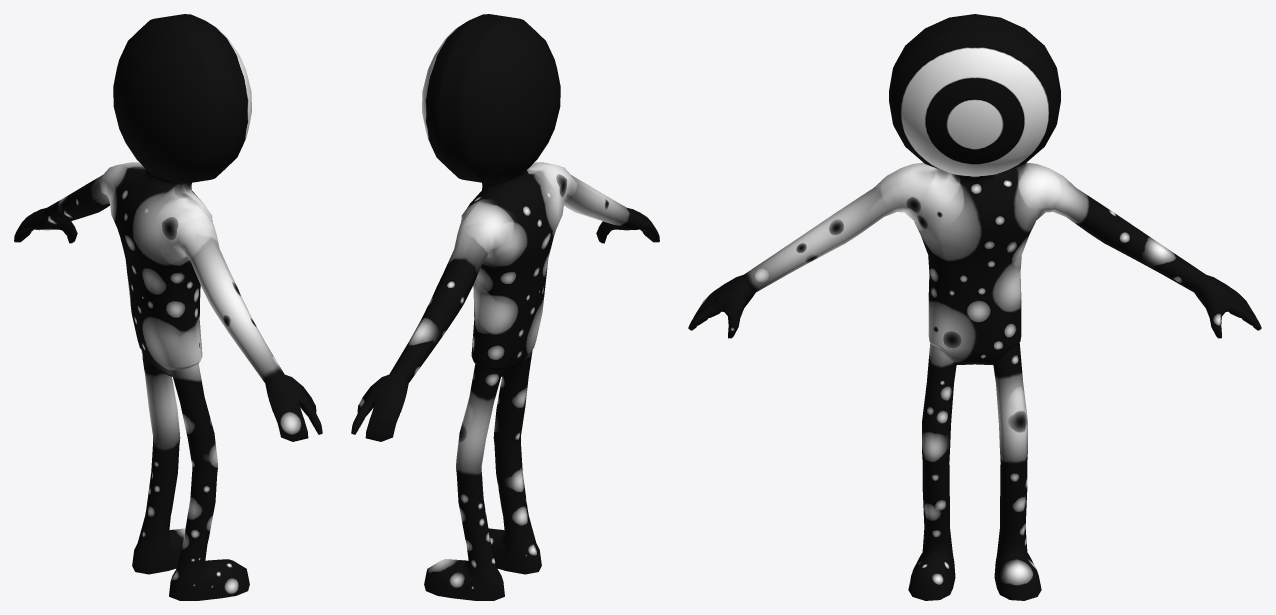
Rendered from Robot.glb.
3 views of the same model, side by side, from view 1: azimuth 30°, elevation 25°; view 2: azimuth 150°, elevation 25°; view 3: azimuth 270°, elevation 25° (orthographic).
Parts seen in each view (by area): view 1: mesh_char_018; view 2: mesh_char_018; view 3: mesh_char_018.
Part boxes in pixels (x1,y1,x2,y2): mesh_char_018: [14, 14, 322, 600]; mesh_char_018: [351, 14, 659, 600]; mesh_char_018: [688, 14, 1261, 600].
Bounding box in the file's own units: 0.926 × 4.45 × 4.12.
Materials: 1 (1 with a texture image).
